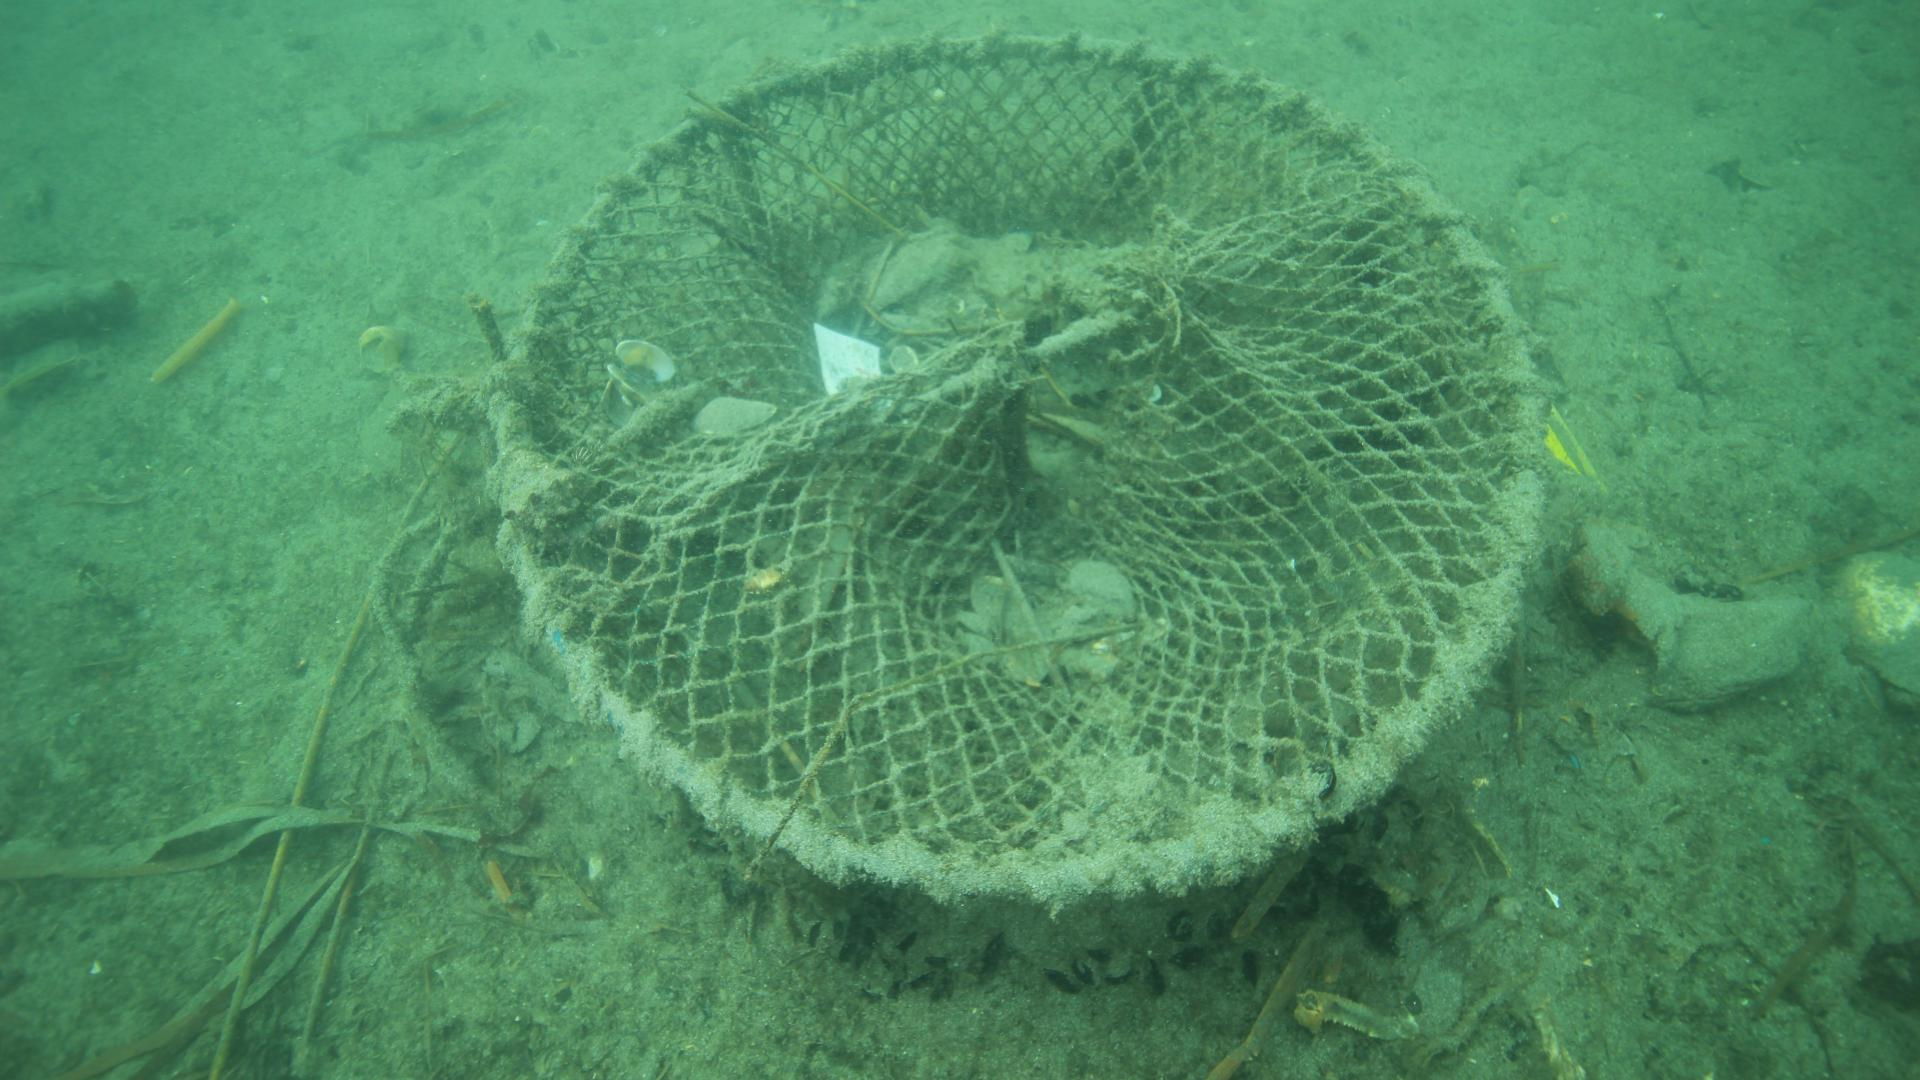circular fish trap: (495, 33, 1542, 897)
